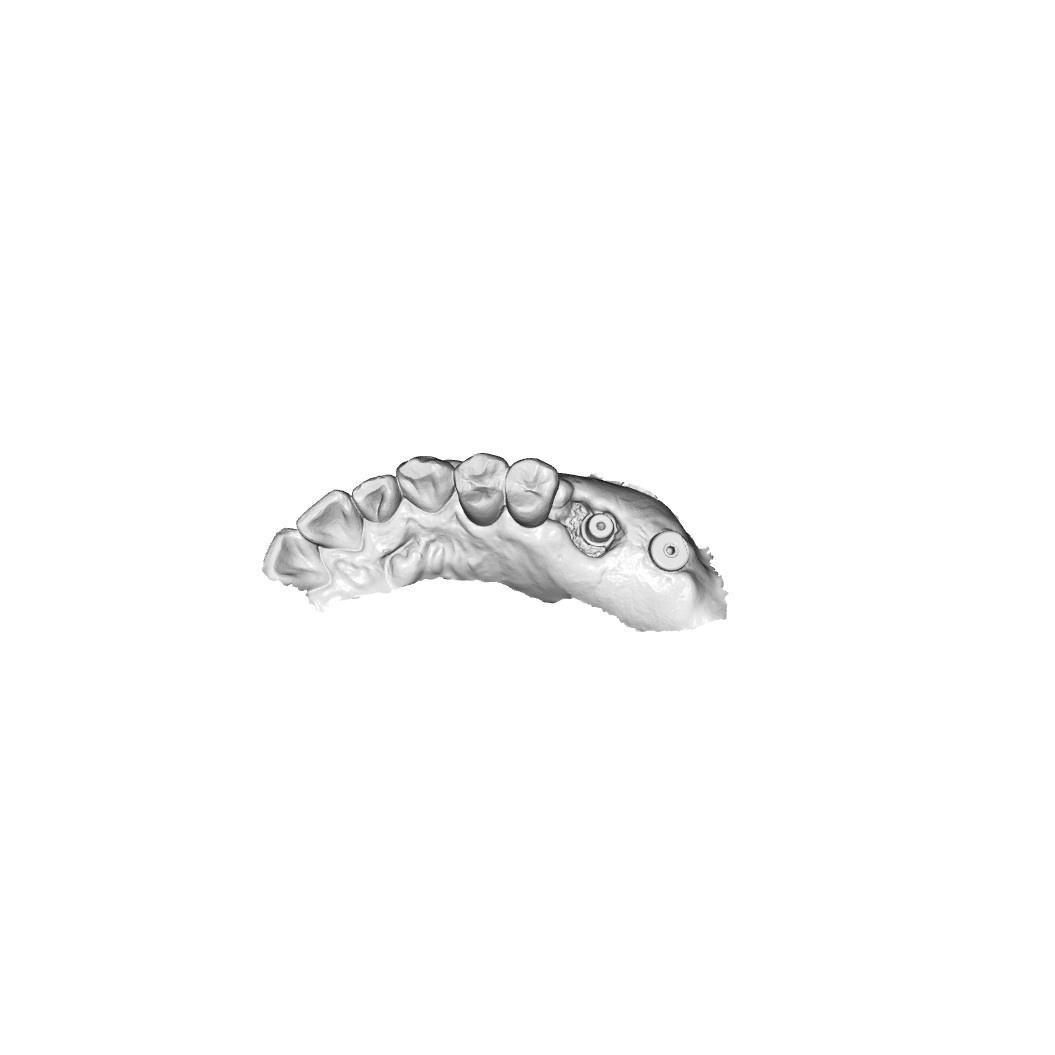canine: (394, 453, 457, 513)
implant: (646, 524, 692, 572), (577, 510, 623, 549)
incisor: (294, 488, 363, 551), (262, 526, 330, 588), (350, 469, 401, 524)
premolar: (451, 451, 508, 527), (502, 458, 557, 529)
